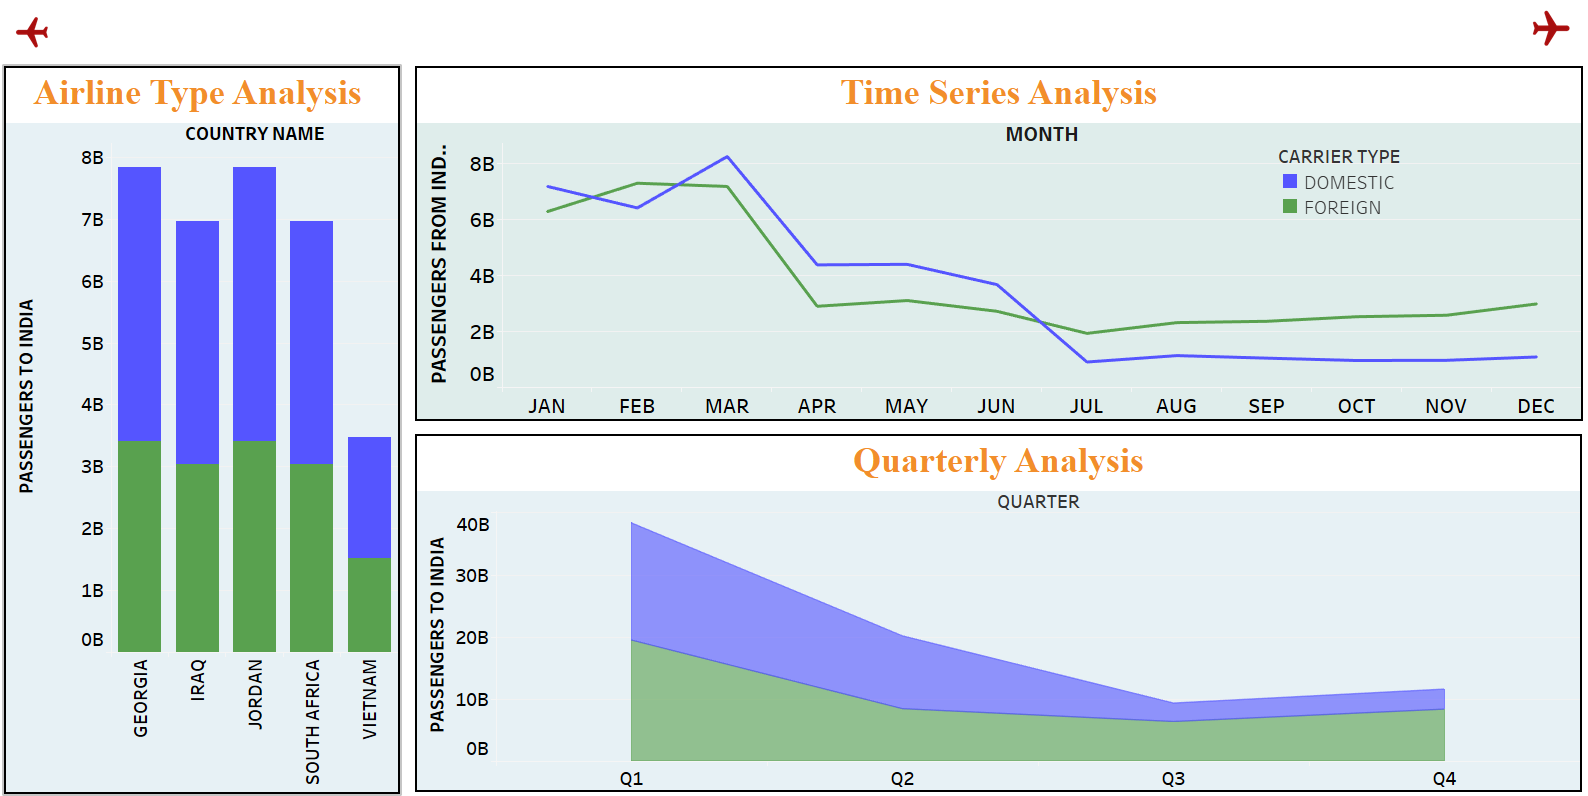

The dashboard page shown, as its layout file describes it:
{"tool":"tableau","page":{"name":"Airline Traffic Analysis Dashboard 2","canvas":[1000,1000],"units":"permille","ordinal":1},"visuals":[{"type":"dashboard-object","box":[948.2,7.3,40.5,73.4]},{"type":"dashboard-object","box":[4.4,17.1,33.7,63.6]},{"type":"worksheet","title":"Airline Type Analysis :","mark":"Automatic","rows":["PASSENGERS TO INDIA"],"cols":["COUNTRY NAME"],"box":[5.6,90.5,246.9,890]},{"type":"worksheet","title":"Time Series Analysis :","mark":"Line","rows":["PASSENGERS FROM INDIA"],"cols":["MONTH"],"box":[261.9,90.5,728.2,434]},{"type":"legend","title":"Time Series Analysis :","param":"[federated.1ru3y5c15001as1cl7j0p1n24gp6].[none:CARRIER TYPE:nk]","box":[799.9,184.6,87.3,92.9]},{"type":"worksheet","title":"Quarterly Analysis :","mark":"Area","rows":["PASSENGERS TO INDIA"],"cols":["QUARTER"],"box":[261.9,540.3,727.6,437.7]}]}

Visuals, with their boxes on the dashboard's canvas, which has no fixed pixel size, in thousandths of its width and height (x1, y1, x2, y2). These are canvas units, not pixel positions in the 1588x796 screenshot, which may show the page scaled, cropped or inside an application window:
dashboard-object: <bbox>948, 7, 989, 81</bbox>
dashboard-object: <bbox>4, 17, 38, 81</bbox>
"Airline Type Analysis :" worksheet: <bbox>6, 90, 252, 980</bbox>
"Time Series Analysis :" worksheet (Line marks): <bbox>262, 90, 990, 524</bbox>
"Time Series Analysis :" legend: <bbox>800, 185, 887, 278</bbox>
"Quarterly Analysis :" worksheet (Area marks): <bbox>262, 540, 990, 978</bbox>
